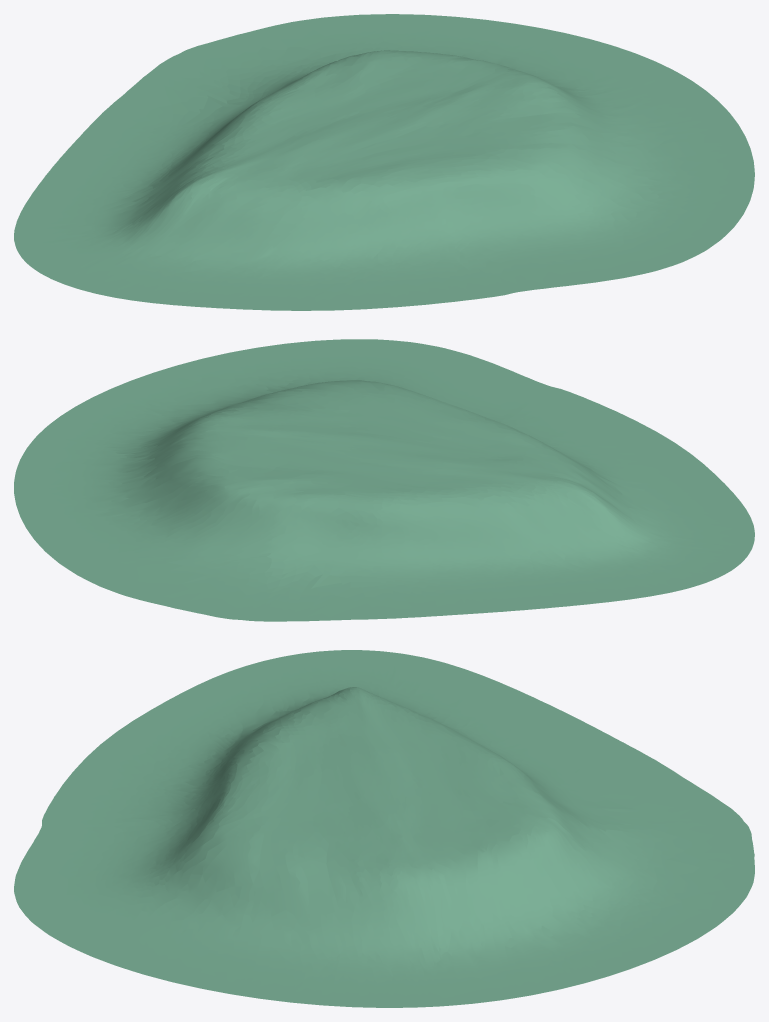
Rendered from island_circular_B_E.fbx.
3 views of the same model, one above another, from view 1: azimuth 30°, elevation 25°; view 2: azimuth 150°, elevation 25°; view 3: azimuth 270°, elevation 25° (orthographic). The views are drawn at different scales.
Parts seen in each view (by area): view 1: island_circular_B_E; view 2: island_circular_B_E; view 3: island_circular_B_E.
Boxes of the visible parts, x1,y1,x2,y2 form: island_circular_B_E: [14, 14, 754, 310]; island_circular_B_E: [14, 339, 754, 621]; island_circular_B_E: [14, 650, 754, 1007].
Bounding box in the file's own units: 30335 × 1998 × 26542.
